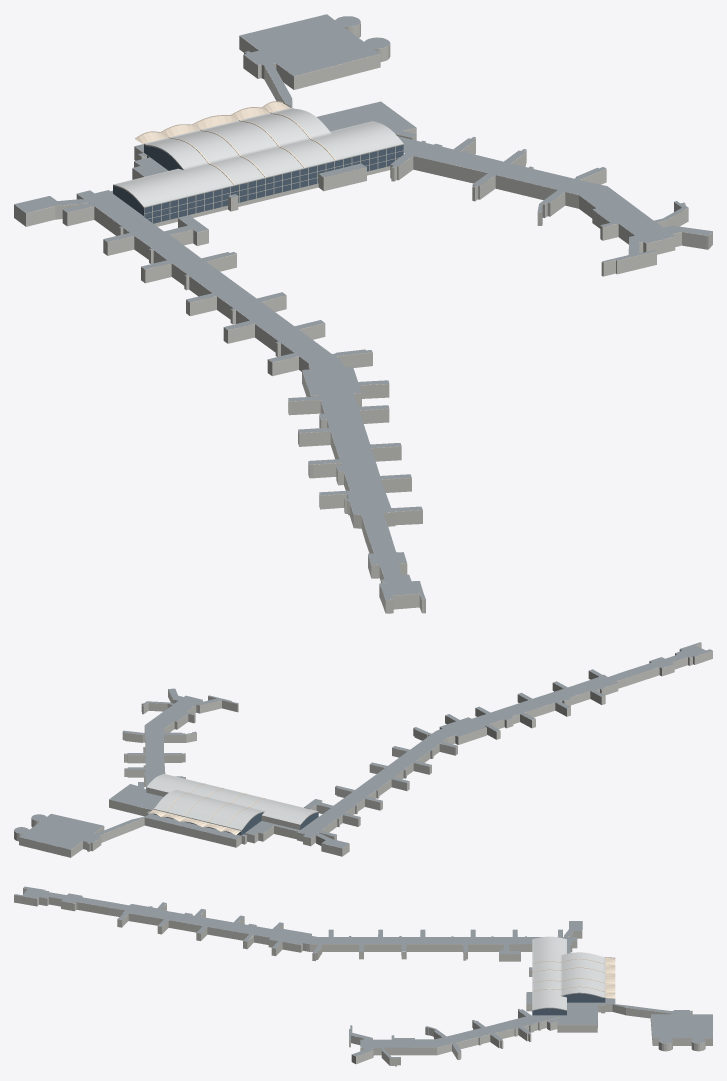
Rendered from nyc-jfk-terminal-4.glb.
3 views of the same model, one above another, from view 1: azimuth 30°, elevation 25°; view 2: azimuth 150°, elevation 25°; view 3: azimuth 270°, elevation 25° (orthographic). The views are drawn at different scales.
Parts seen in each view (by area): view 1: JFK Airport Terminal 4; view 2: JFK Airport Terminal 4; view 3: JFK Airport Terminal 4.
Part boxes in pixels (<box>): JFK Airport Terminal 4: <box>14,14,712,613</box>; JFK Airport Terminal 4: <box>14,642,712,857</box>; JFK Airport Terminal 4: <box>14,886,712,1066</box>.
Size of the model in its own units: 649 by 31.19 by 1112.
